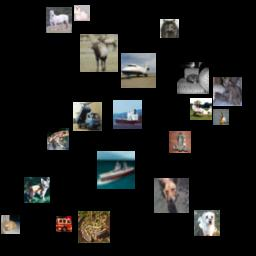airplane: (121, 53, 156, 88), (190, 98, 212, 120)
bird: (213, 109, 229, 125)
cat: (177, 62, 209, 94), (213, 77, 242, 106), (160, 19, 179, 38)
deer: (80, 34, 118, 72)
dog: (154, 178, 189, 213), (24, 177, 50, 203), (194, 210, 220, 236), (1, 215, 20, 234), (74, 5, 90, 21)
frog: (78, 211, 110, 243), (47, 128, 69, 150), (169, 131, 191, 153)
ship: (97, 151, 135, 189), (113, 100, 142, 129)
truck: (73, 102, 102, 131), (56, 216, 72, 232)
